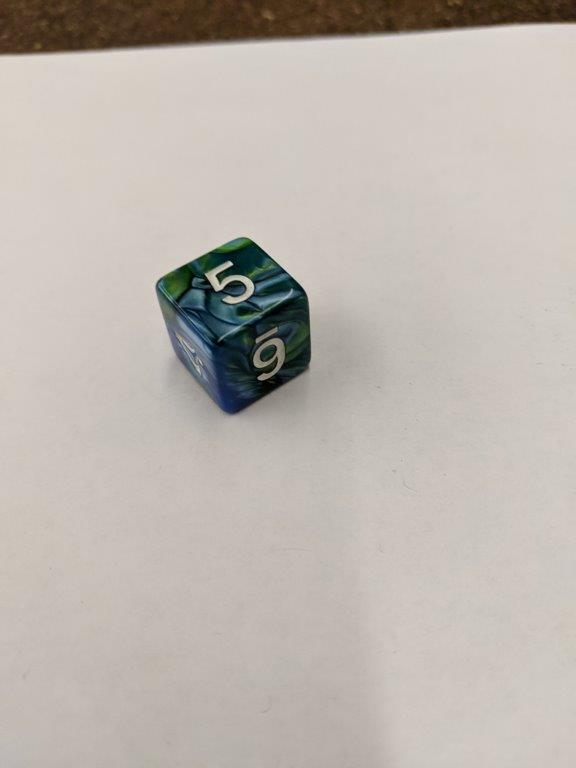d6-5: (153, 235, 314, 414)
